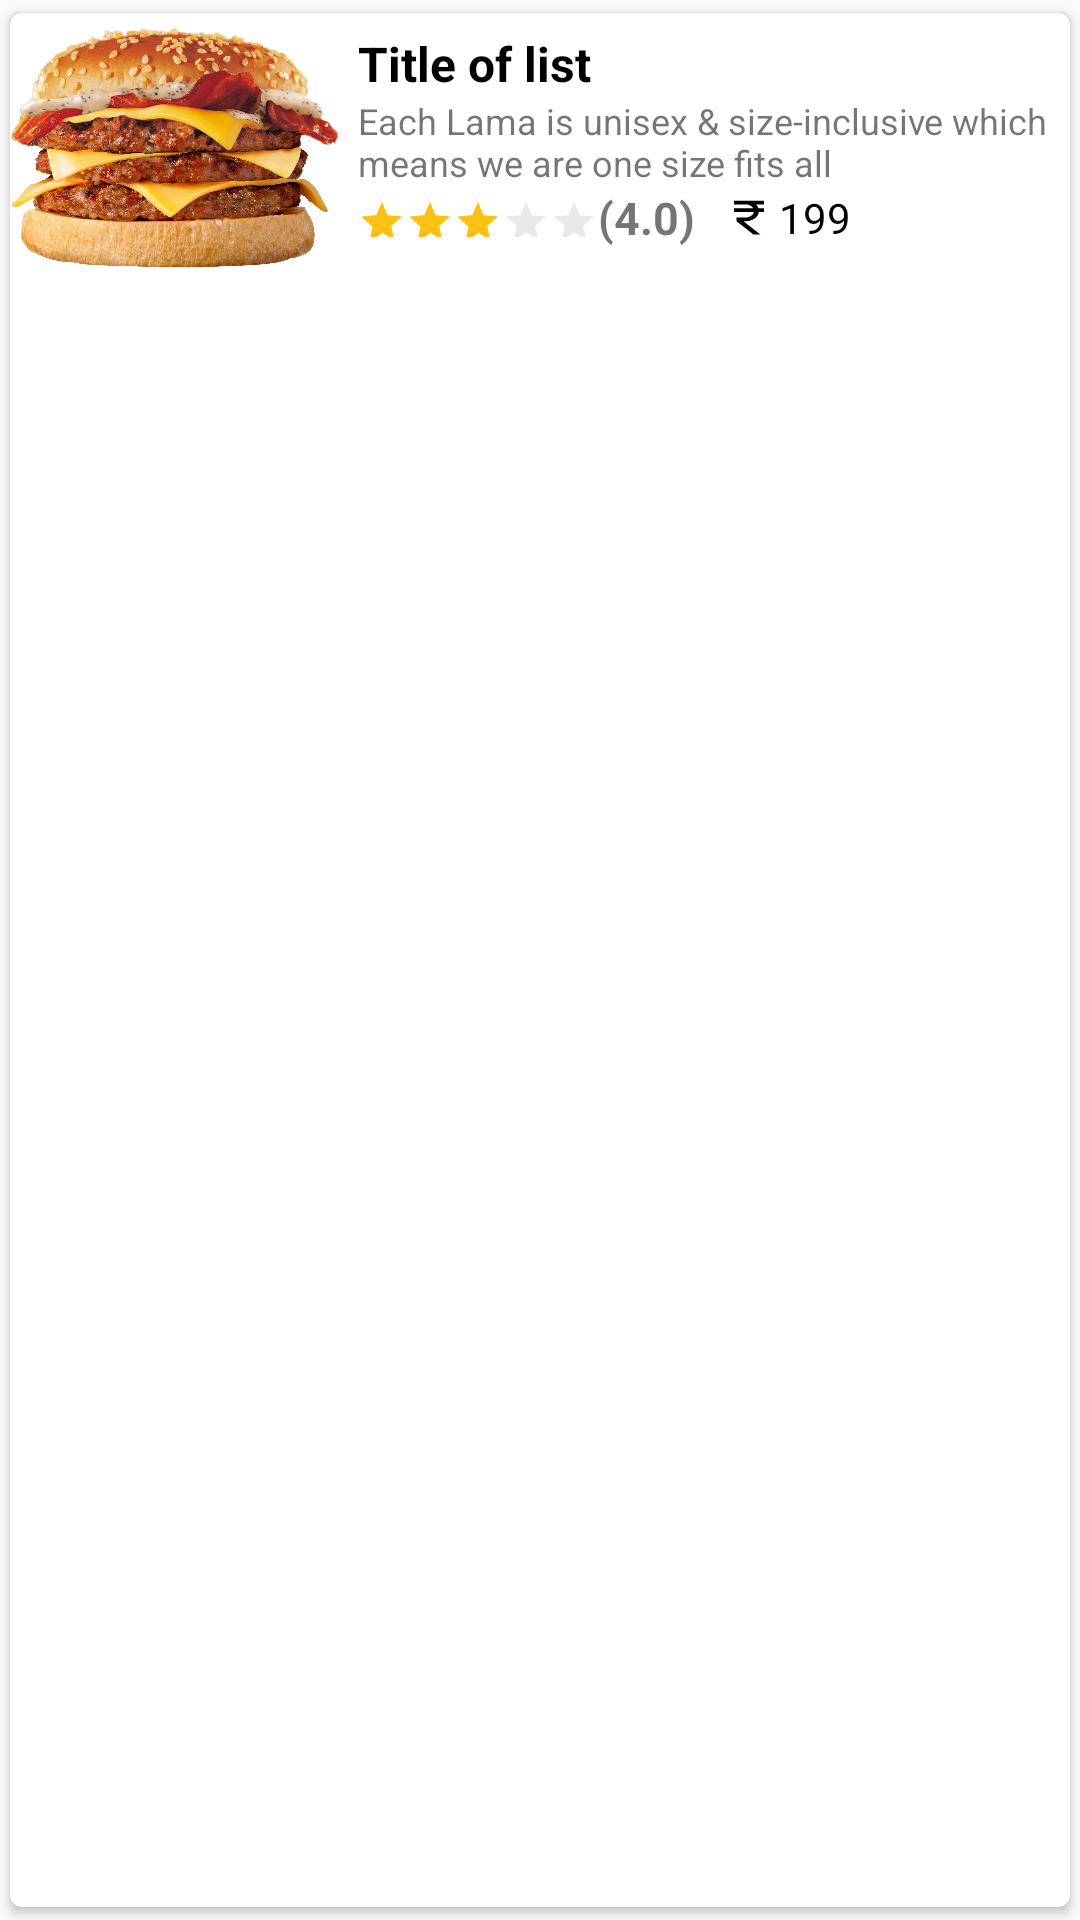

Icon click points for this 1080x1920 phone screenshot, format point (x, y):
burgue: point (175, 147)
